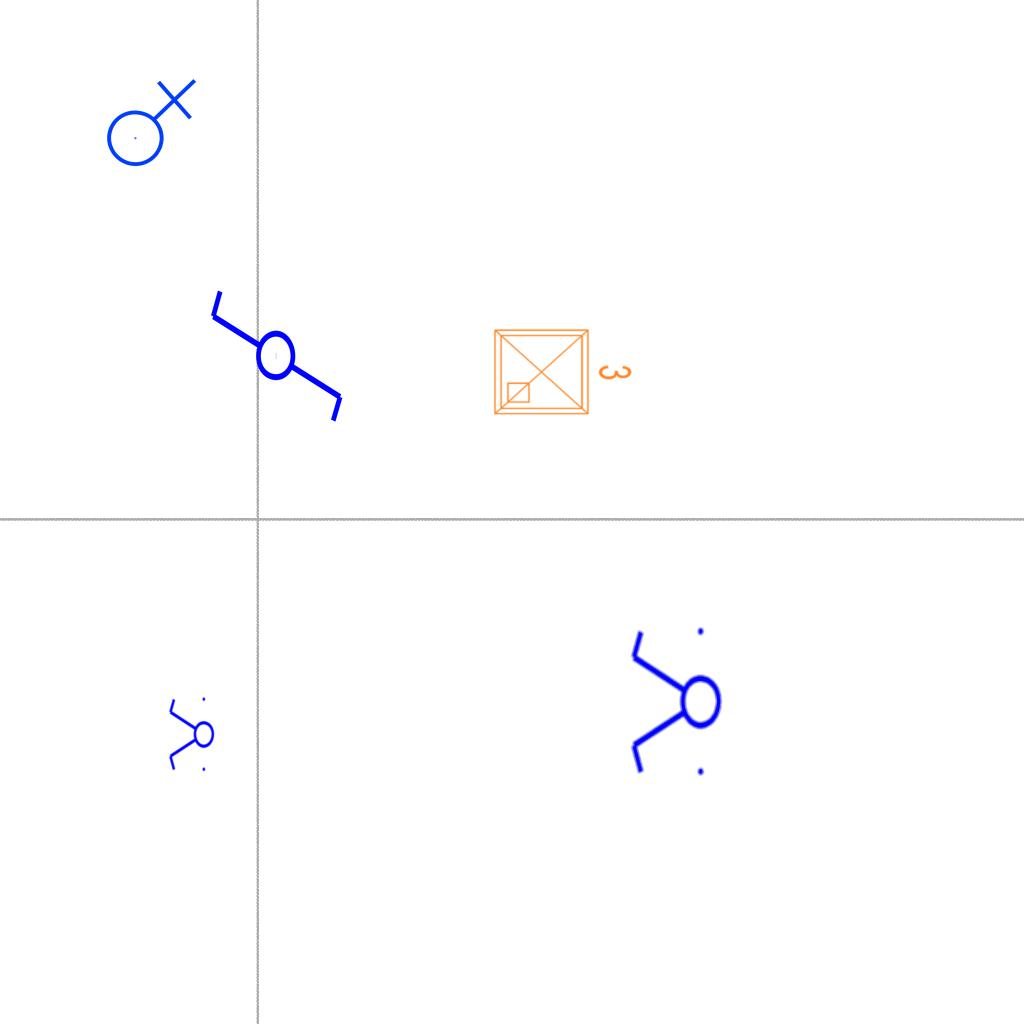Einbaudownlights_LED_Konferenzraeume: (487, 318, 637, 422)
Elektroanschluss_allgemein_230V_Geraeteanschlussdose_230V: (98, 74, 197, 168)
Serienschalter: (627, 619, 723, 787), (167, 693, 215, 777)
Wechselschalter: (206, 269, 350, 426)
